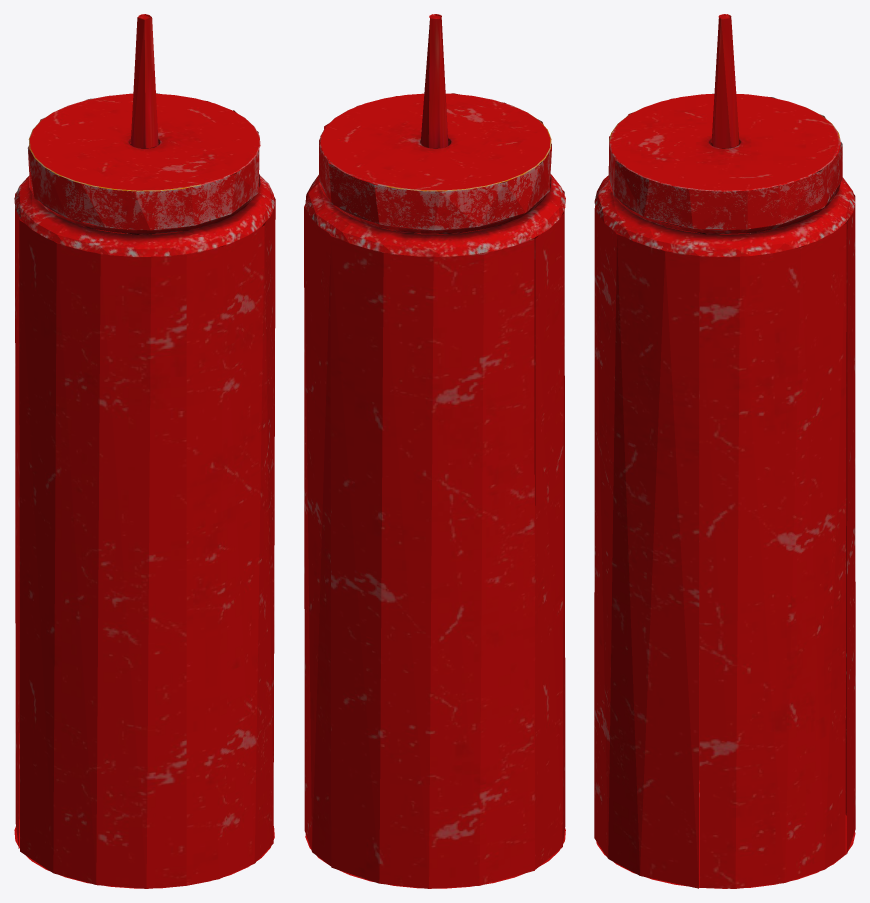
The model's file is salsa.glb.
3 renders of one model, left to right at view 1: azimuth 30°, elevation 25°; view 2: azimuth 150°, elevation 25°; view 3: azimuth 270°, elevation 25°, orthographic.
Parts seen in each view (by area): view 1: Ketchup; view 2: Ketchup; view 3: Ketchup.
Part boxes in pixels (<box>): Ketchup: <box>14,14,275,888</box>; Ketchup: <box>304,14,565,888</box>; Ketchup: <box>594,14,855,888</box>.
Bounding box in the file's own units: 0.5291 × 1.83 × 0.5293.
Materials: 1 (1 with a texture image).
